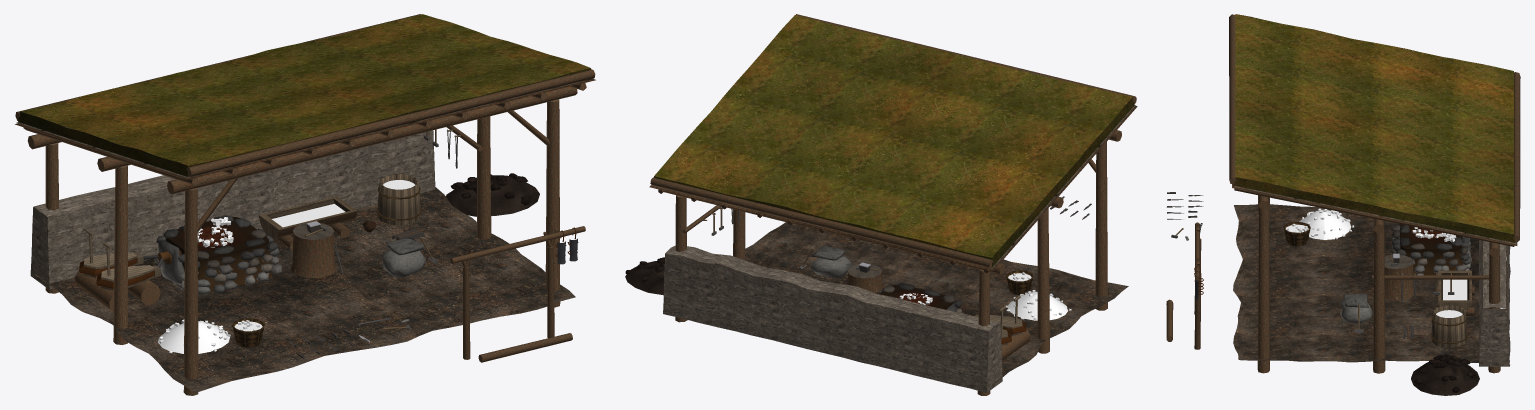
The model's file is smithy.glb.
3 views of the same model, side by side, from view 1: azimuth 30°, elevation 25°; view 2: azimuth 150°, elevation 25°; view 3: azimuth 270°, elevation 25° (orthographic). The views are drawn at different scales.
Parts seen in each view (by area): view 1: paja, paja_katto, paja_rekvisiitta, ahjo, keihasteline, palkeet, ahjo_hiillos; view 2: paja_katto, paja, paja_rekvisiitta, palkeet, ahjo; view 3: paja_katto, paja, paja_rekvisiitta, ahjo, keihasteline, ahjo_hiillos, poyta_aihiot.
Boxes of the visible parts, x1,y1,x2,y2 form: paja: [27, 86, 577, 395]; paja_katto: [15, 14, 595, 185]; paja_rekvisiitta: [158, 125, 539, 353]; ahjo: [154, 216, 281, 295]; keihasteline: [450, 226, 585, 362]; palkeet: [75, 229, 163, 311]; ahjo_hiillos: [197, 217, 233, 247]; paja_katto: [649, 14, 1137, 273]; paja: [663, 130, 1128, 395]; paja_rekvisiitta: [625, 205, 1071, 320]; palkeet: [975, 295, 1030, 360]; ahjo: [876, 283, 961, 312]; paja_katto: [1229, 14, 1520, 246]; paja: [1233, 195, 1510, 373]; paja_rekvisiitta: [1283, 208, 1500, 395]; ahjo: [1390, 223, 1471, 280]; keihasteline: [1166, 222, 1201, 349]; ahjo_hiillos: [1412, 227, 1456, 242]; poyta_aihiot: [1166, 192, 1203, 240].
Bounding box in the file's own units: 7.92 × 3.87 × 6.14.
Materials: 14 (14 with a texture image).
